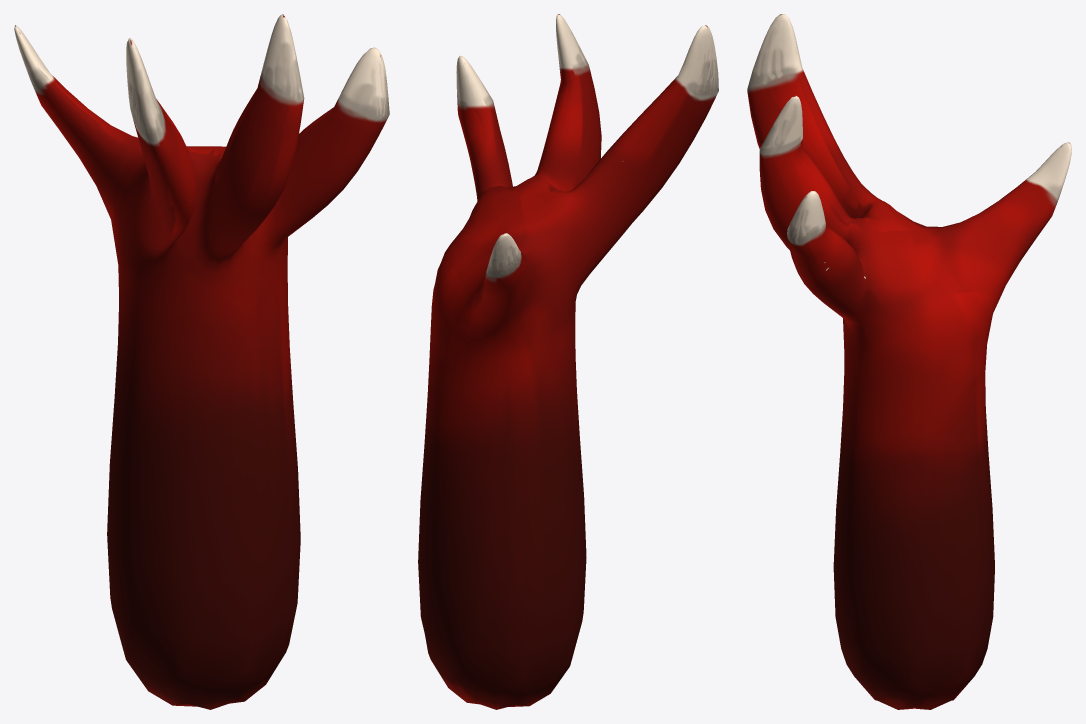
File: arm.fbx
3 renders of one model, left to right at view 1: azimuth 30°, elevation 25°; view 2: azimuth 150°, elevation 25°; view 3: azimuth 270°, elevation 25°, orthographic. The views are drawn at different scales.
Visible parts, largest first — view 1: Arm; view 2: Arm; view 3: Arm.
Part boxes in pixels (x1,y1,x2,y2): Arm: (14,14,389,709); Arm: (418,14,718,709); Arm: (747,14,1071,709).
Size of the model in its own units: 8630 by 23097 by 10745.
